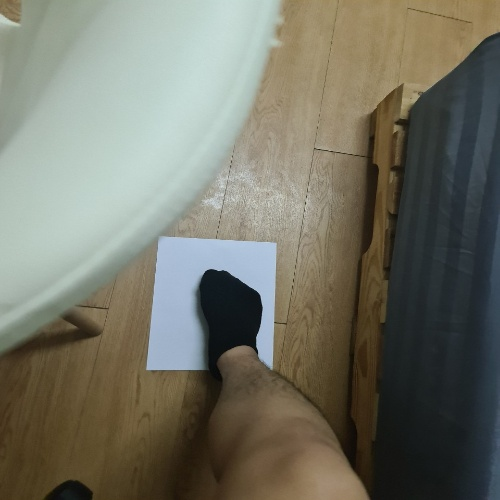Top_Foot: (140, 224, 295, 390)
